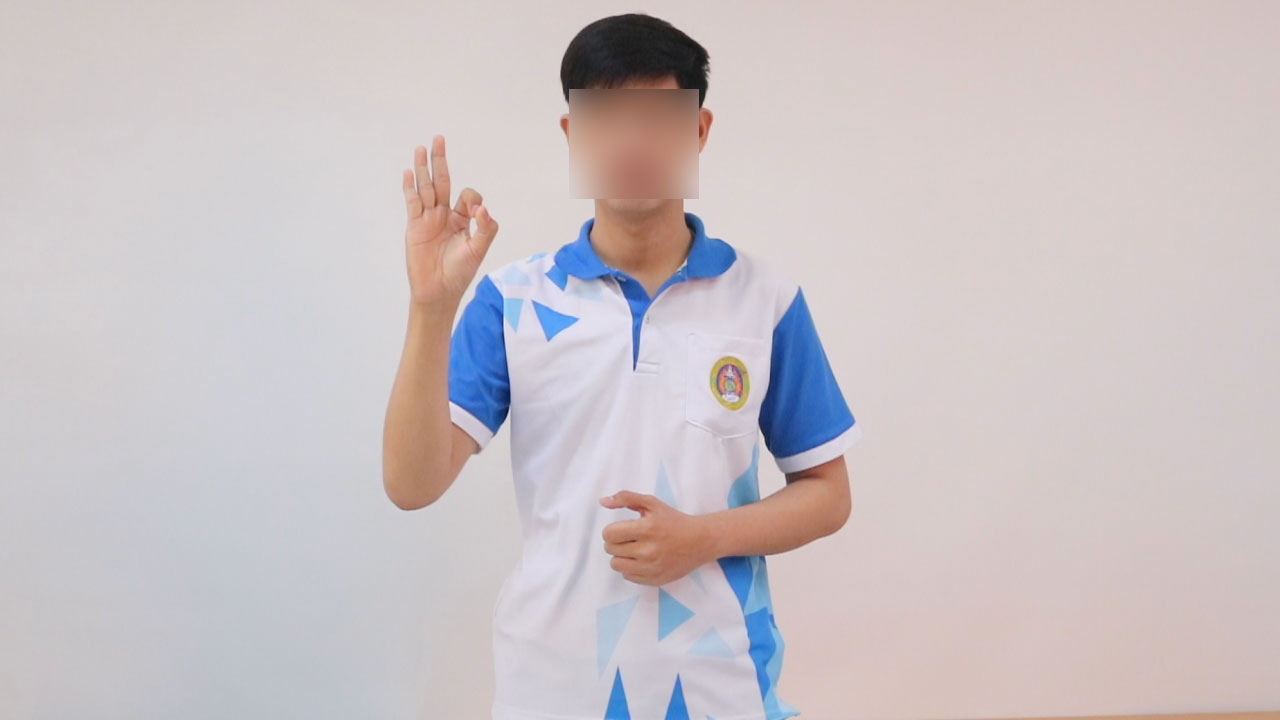for: (392, 124, 504, 325)
